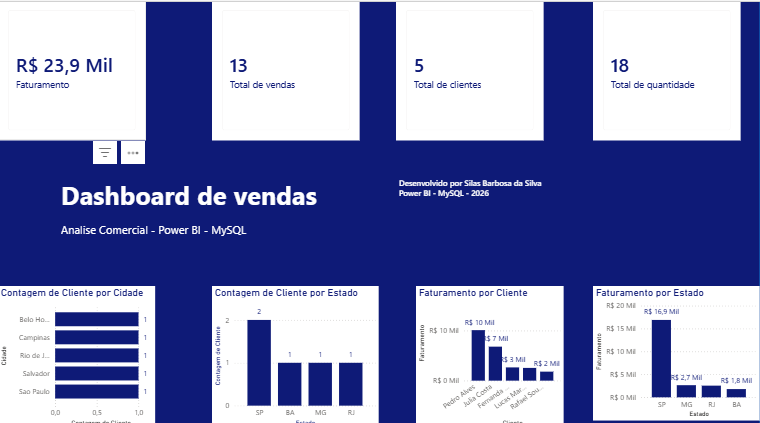

The dashboard page shown, as its layout file describes it:
{"tool":"powerbi","page":{"name":"Clientes","canvas":[1280,720],"ordinal":2},"visuals":[{"type":"shape","box":[0,0,1280,720],"z":0},{"type":"columnChart","fields":{"Category":["clientes.Cliente"],"Y":["Sum(itens_vendas.Faturamento)"]},"box":[702,480,248,240],"z":1000},{"type":"clusteredColumnChart","fields":{"Y":["Sum(itens_vendas.Faturamento)"],"Category":["estado.Estado"]},"box":[1000,480,280,226],"z":2000},{"type":"barChart","fields":{"Y":["CountNonNull(clientes.Cliente)"],"Category":["cidade.Cidade"]},"box":[0,480,264,240],"z":3000},{"type":"columnChart","fields":{"Y":["CountNonNull(clientes.Cliente)"],"Category":["estado.Estado"]},"box":[360,480,280,240],"z":4000},{"type":"cardVisual","fields":{"Data":["Sum(itens_vendas.Faturamento)"]},"box":[0,0,248,236],"z":5000},{"type":"cardVisual","fields":{"Data":["CountNonNull(itens_vendas.id_venda)"]},"box":[360,0,248,236],"z":6000},{"type":"cardVisual","fields":{"Data":["Sum(itens_vendas.Quantidade)"]},"box":[1000,0,248,236],"z":7000},{"type":"cardVisual","fields":{"Data":["CountNonNull(clientes.id_cliente)"]},"box":[668,0,248,236],"z":8000},{"type":"textbox","box":[100,294,452,126],"z":9000},{"type":"textbox","box":[668,294,472,106],"z":10000}]}

Visuals, with their boxes in screenshot pixels (x1, y1, x2, y2), scaled from the page's 1280x720 canvas onto the 760x423 screenshot:
shape: 0, 0, 759, 422
columnChart - clientes.Cliente x Sum(itens_vendas.Faturamento): 417, 282, 564, 422
clusteredColumnChart - Sum(itens_vendas.Faturamento) x estado.Estado: 594, 282, 759, 415
barChart - CountNonNull(clientes.Cliente) x cidade.Cidade: 0, 282, 157, 422
columnChart - CountNonNull(clientes.Cliente) x estado.Estado: 214, 282, 380, 422
cardVisual - Sum(itens_vendas.Faturamento): 0, 0, 147, 139
cardVisual - CountNonNull(itens_vendas.id_venda): 214, 0, 361, 139
cardVisual - Sum(itens_vendas.Quantidade): 594, 0, 741, 139
cardVisual - CountNonNull(clientes.id_cliente): 397, 0, 544, 139
textbox: 59, 173, 328, 247
textbox: 397, 173, 677, 235
